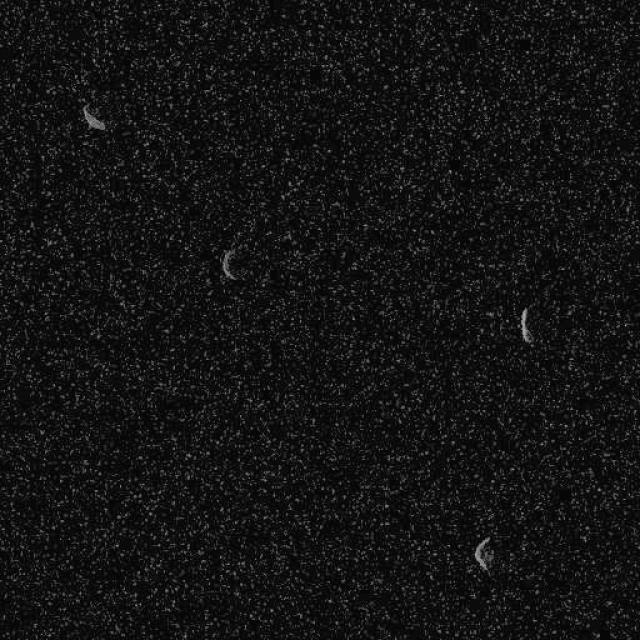D2: (472, 535, 493, 575), (80, 102, 106, 132), (518, 305, 534, 344), (219, 248, 236, 280)
